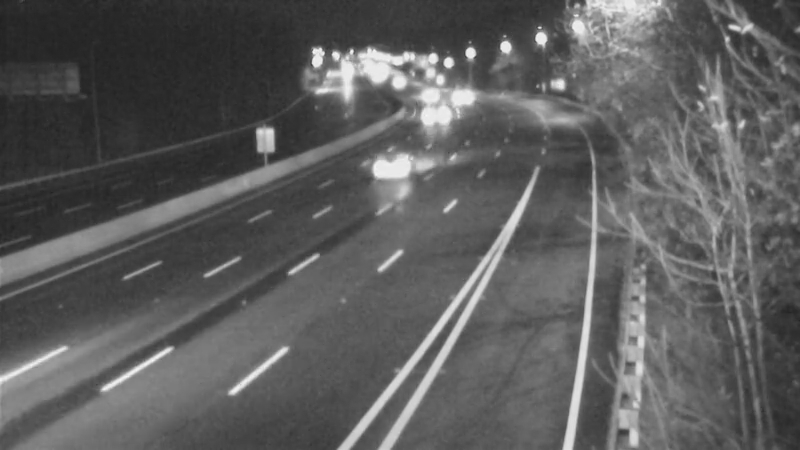vehicle: (367, 127, 447, 207), (365, 54, 415, 104), (399, 69, 449, 119), (438, 72, 488, 122), (409, 87, 459, 137)
